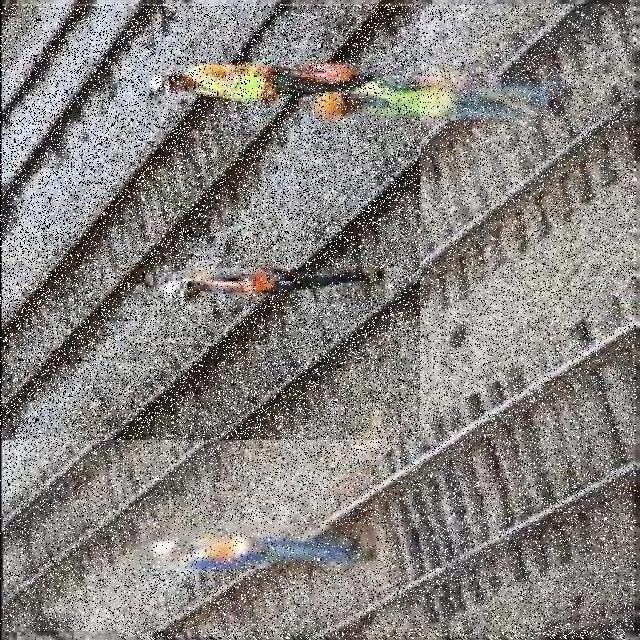rail: (5, 6, 636, 632), (1, 8, 421, 441), (120, 292, 625, 639)
